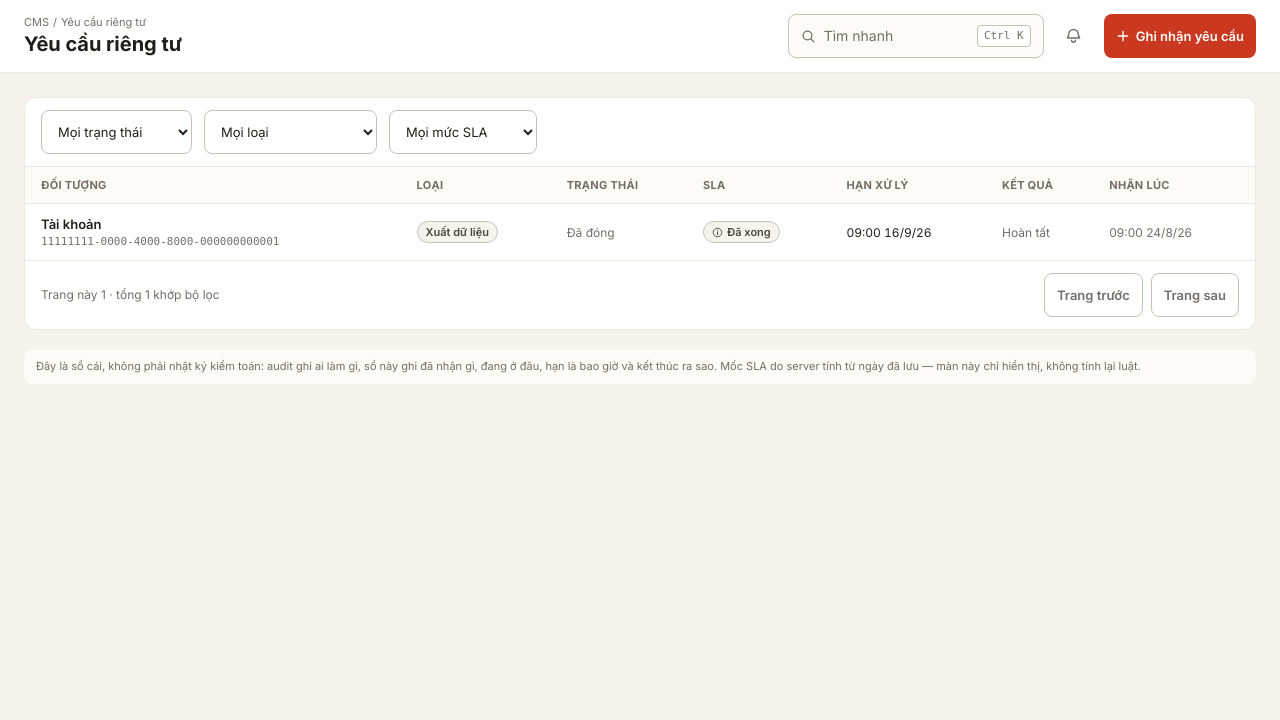
Scenario: secure export — privacy request execute (GoGo-BE#256) › renders a ready export with its expiry from the detail facts
The image size is (1280, 720).
Click the text "11111111-0000-4000-8000-000000000001".
click(160, 242)  # box [41,235,279,248]
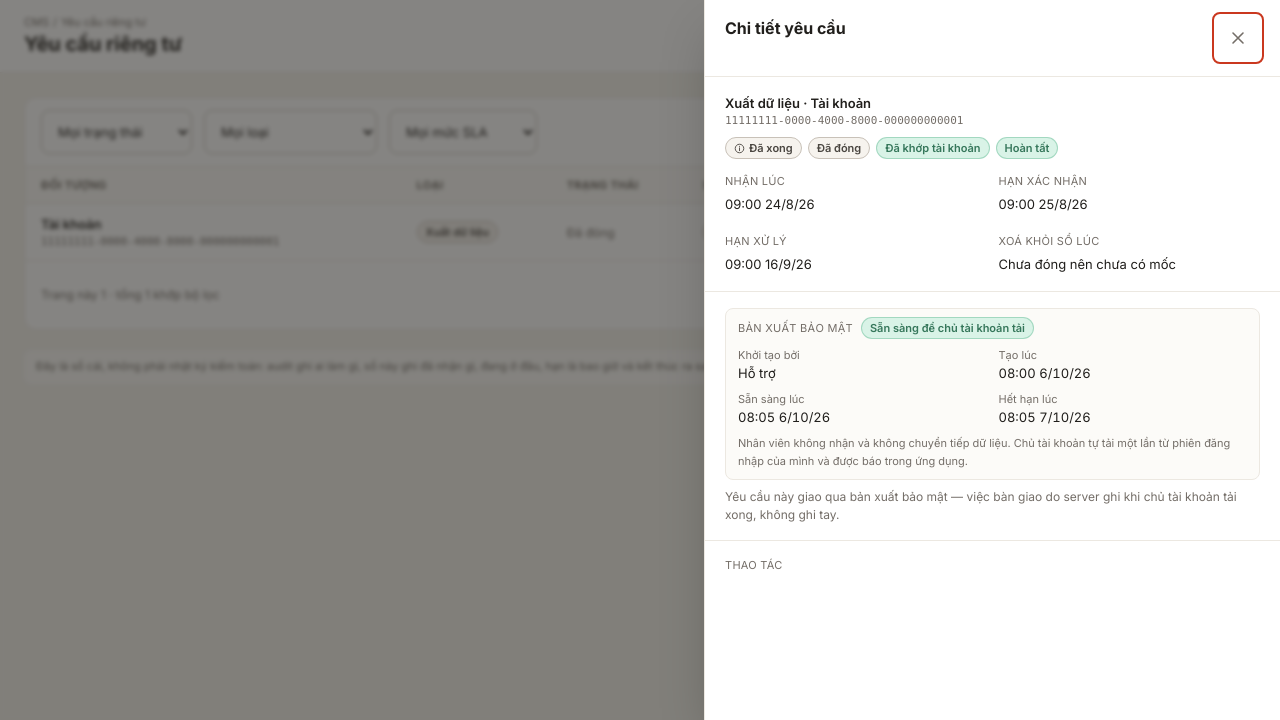
Check: the text "Sẵn sàng để chủ tài khoản tải" is shown, box [861,317,1034,339]
Check: the text "Hết hạn lúc" is shown, box [998,392,1058,406]
